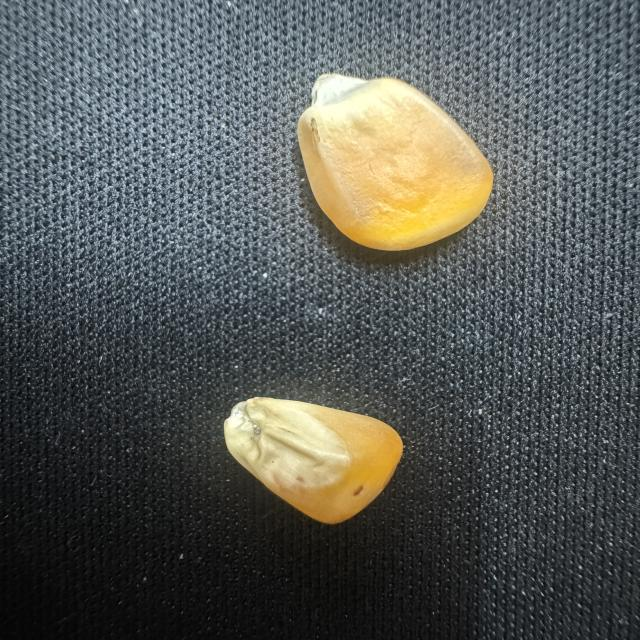Bad-Seed: (213, 389, 410, 535)
Good-Seed: (292, 68, 498, 257)
